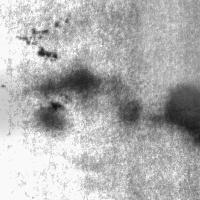patches: (128, 0, 200, 114), (0, 71, 39, 137), (160, 82, 200, 144), (31, 67, 105, 96), (34, 101, 66, 129), (117, 99, 142, 124)
